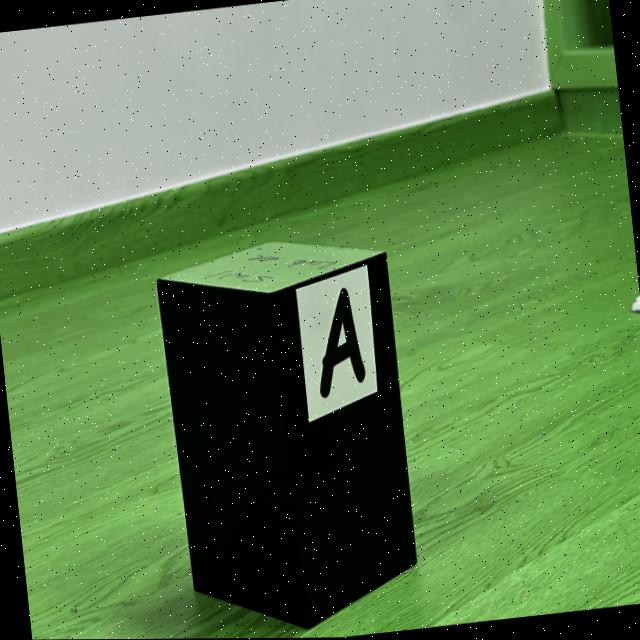A: (320, 289, 365, 398)
